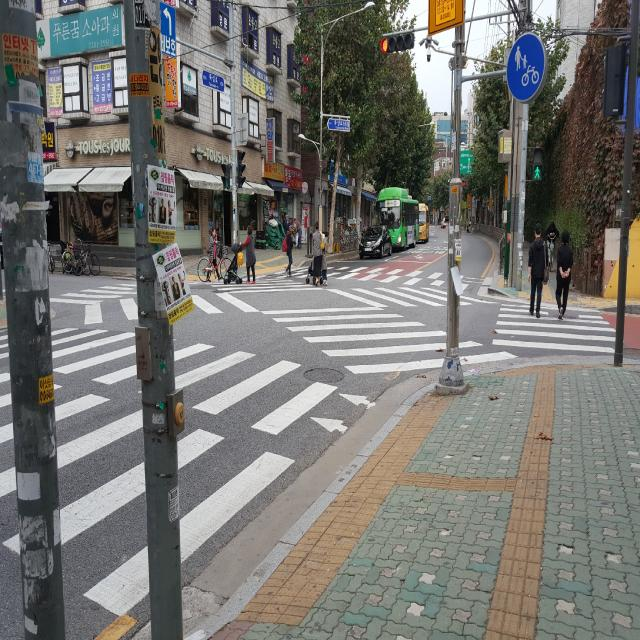초록불: (531, 144, 545, 186)
횡단보도: (0, 256, 338, 640), (206, 281, 518, 375), (487, 290, 623, 358)
